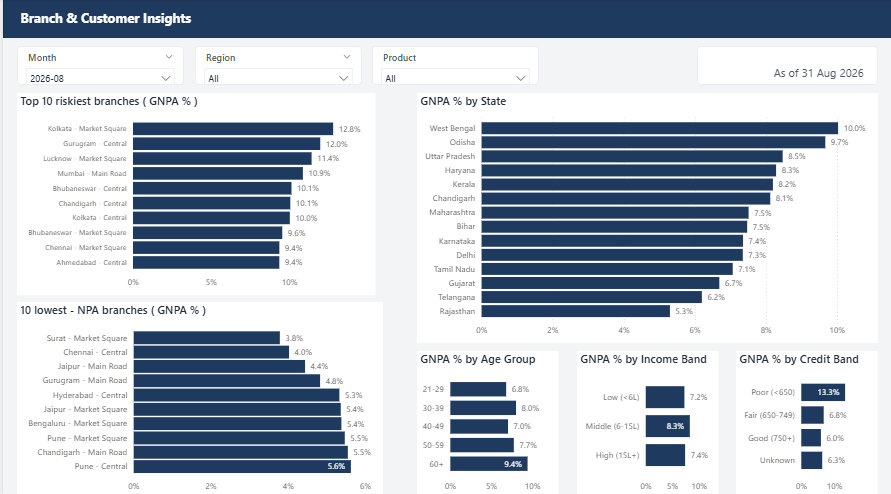

Layout of this report page (visuals, bound fields, positions):
{"tool":"powerbi","page":{"name":"Branch & Customer","canvas":[1280,720],"ordinal":2},"visuals":[{"type":"slicer","fields":{"Values":["Dim_date_table.Year Month"]},"box":[20,68,240,56.2],"z":0},{"type":"slicer","fields":{"Values":["Dim_branches.Region"]},"box":[276,68,240,56.2],"z":1000},{"type":"slicer","fields":{"Values":["Dim_products.Product_type"]},"box":[532,68,240,56.2],"z":2000},{"type":"shape","box":[0,0,1280,56],"z":3000},{"type":"cardVisual","fields":{"Data":["_Measures.Title - As Of"]},"box":[1000,68.3,260,56],"z":4000},{"type":"textbox","box":[20.2,10,600.5,36],"z":5000},{"type":"clusteredBarChart","title":"Top 10  riskiest branches ( GNPA % )","fields":{"Category":["Dim_branches.Branch Name"],"Y":["_Measures.GNPA %"]},"box":[20.2,135.4,515.5,290.9],"z":6000},{"type":"clusteredBarChart","title":"10 lowest - NPA branches ( GNPA % )","fields":{"Category":["Dim_branches.Branch Name"],"Y":["_Measures.GNPA %"]},"box":[20.2,436.3,527,283.7],"z":7000},{"type":"clusteredBarChart","fields":{"Category":["Dim_branches.State"],"Y":["_Measures.GNPA %"]},"box":[596.2,135.4,663.8,360],"z":8000},{"type":"clusteredBarChart","fields":{"Category":["Dim_customers.Age Group"],"Y":["_Measures.GNPA %"]},"box":[596.2,507,204.5,213.1],"z":9000},{"type":"clusteredBarChart","fields":{"Category":["Dim_customers.Income Band"],"Y":["_Measures.GNPA %"]},"box":[826.6,507,204.5,213.1],"z":10000},{"type":"clusteredBarChart","fields":{"Category":["Dim_customers.Credit Band"],"Y":["_Measures.GNPA %"]},"box":[1055.5,507,204.5,213.1],"z":11000}]}

Visuals, with their boxes in screenshot pixels (x1, y1, x2, y2), scaled from the page's 1280x720 canvas onto the 891x494 screenshot:
slicer - Dim_date_table.Year Month: left=14, top=47, right=181, bottom=85
slicer - Dim_branches.Region: left=192, top=47, right=359, bottom=85
slicer - Dim_products.Product_type: left=370, top=47, right=537, bottom=85
shape: left=0, top=0, right=890, bottom=38
cardVisual - _Measures.Title - As Of: left=696, top=47, right=877, bottom=85
textbox: left=14, top=7, right=432, bottom=32
"Top 10  riskiest branches ( GNPA % )" clusteredBarChart: left=14, top=93, right=373, bottom=292
"10 lowest - NPA branches ( GNPA % )" clusteredBarChart: left=14, top=299, right=381, bottom=493
clusteredBarChart - Dim_branches.State x _Measures.GNPA %: left=415, top=93, right=877, bottom=340
clusteredBarChart - Dim_customers.Age Group x _Measures.GNPA %: left=415, top=348, right=557, bottom=493
clusteredBarChart - Dim_customers.Income Band x _Measures.GNPA %: left=575, top=348, right=718, bottom=493
clusteredBarChart - Dim_customers.Credit Band x _Measures.GNPA %: left=735, top=348, right=877, bottom=493
